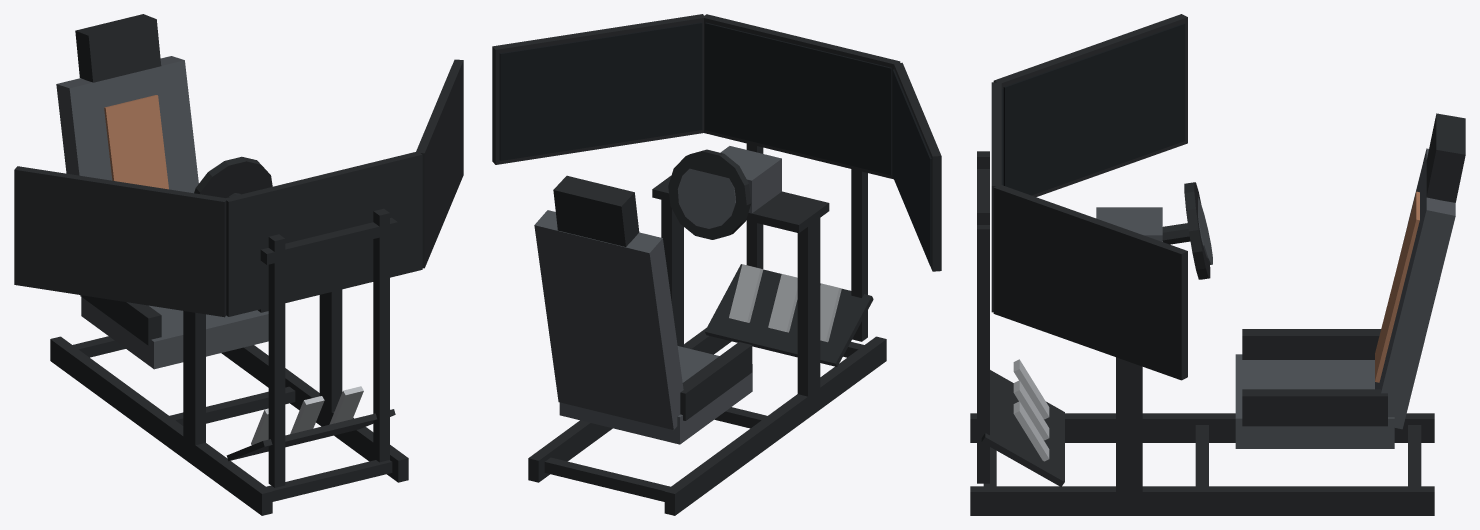
File: sim_rig_triple.glb
3 renders of one model, left to right at view 1: azimuth 30°, elevation 25°; view 2: azimuth 150°, elevation 25°; view 3: azimuth 270°, elevation 25°, orthographic. The views are drawn at different scales.
Parts seen in each view (by area): view 1: sim_rig_triple; view 2: sim_rig_triple; view 3: sim_rig_triple.
Part boxes in pixels (x1,y1,x2,y2): sim_rig_triple: (14, 14, 463, 515); sim_rig_triple: (492, 14, 941, 515); sim_rig_triple: (970, 14, 1465, 515).
Bounding box in the file's own units: 1.71 × 1.15 × 1.49.
